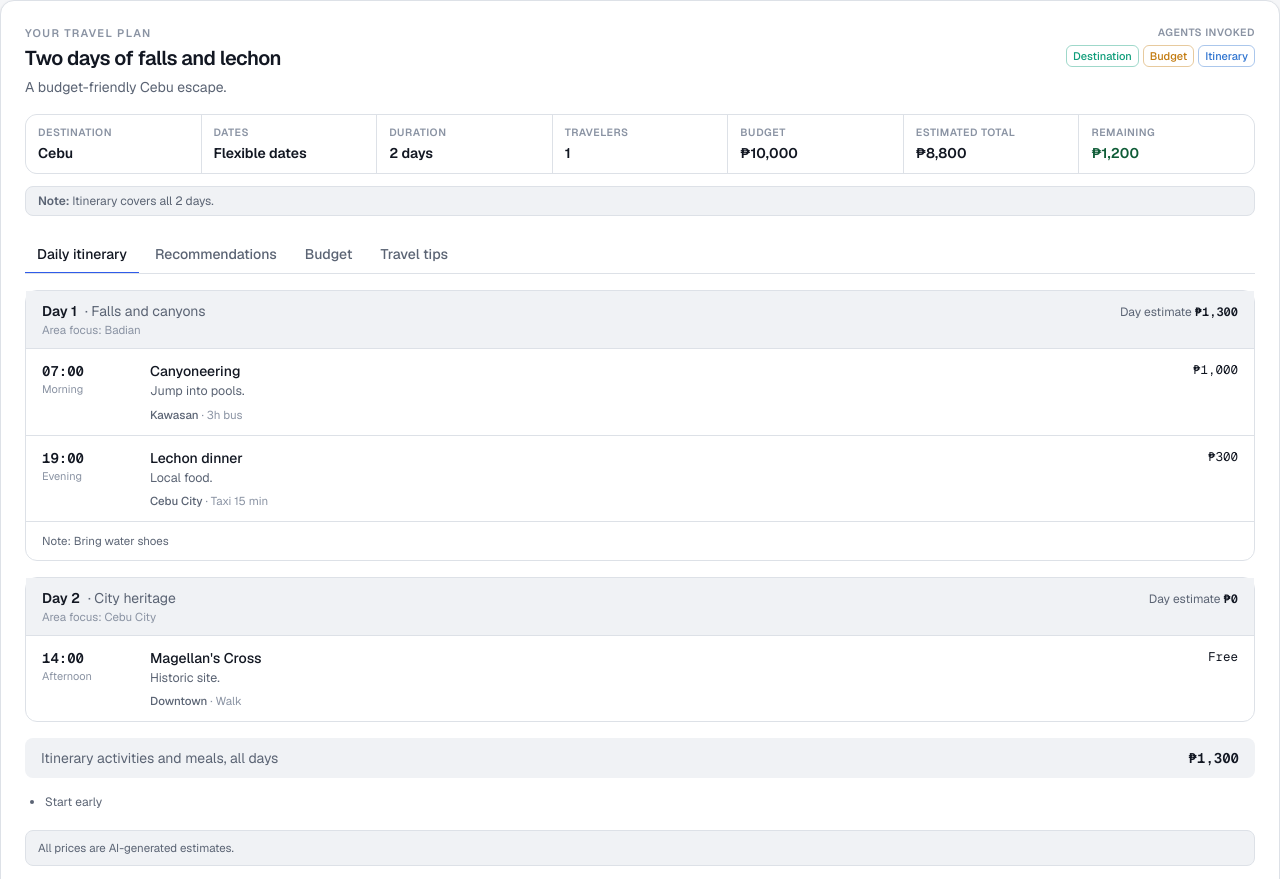
Test: PlanView › renders overview, tabs, tips, disclaimer and refinement
Later steps or results of the test are not shown.
Expected: the heading "Two days of falls and lechon" is shown, x1=25 y1=44 x2=281 y2=72
Expected: the element with test id "trip-overview" shows "Cebu", x1=38 y1=144 x2=73 y2=162
Click the tab "Recommendations". click: click(216, 255)
box: x1=143 y1=236 x2=289 y2=274
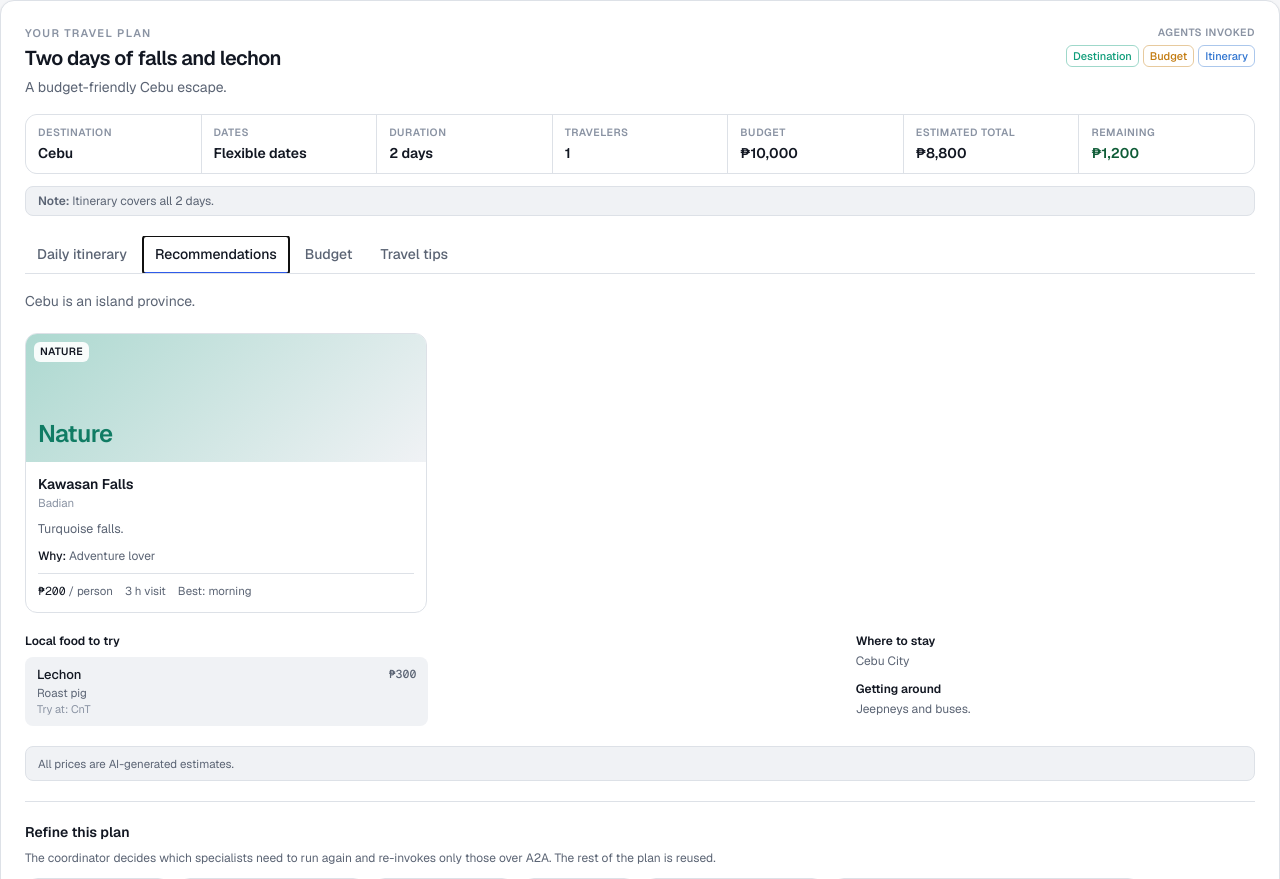
Now the heading "Kawasan Falls" is shown, box x1=38 y1=475 x2=134 y2=493
Click the tab "Travel tips". click: click(414, 255)
box: x1=368 y1=236 x2=460 y2=274
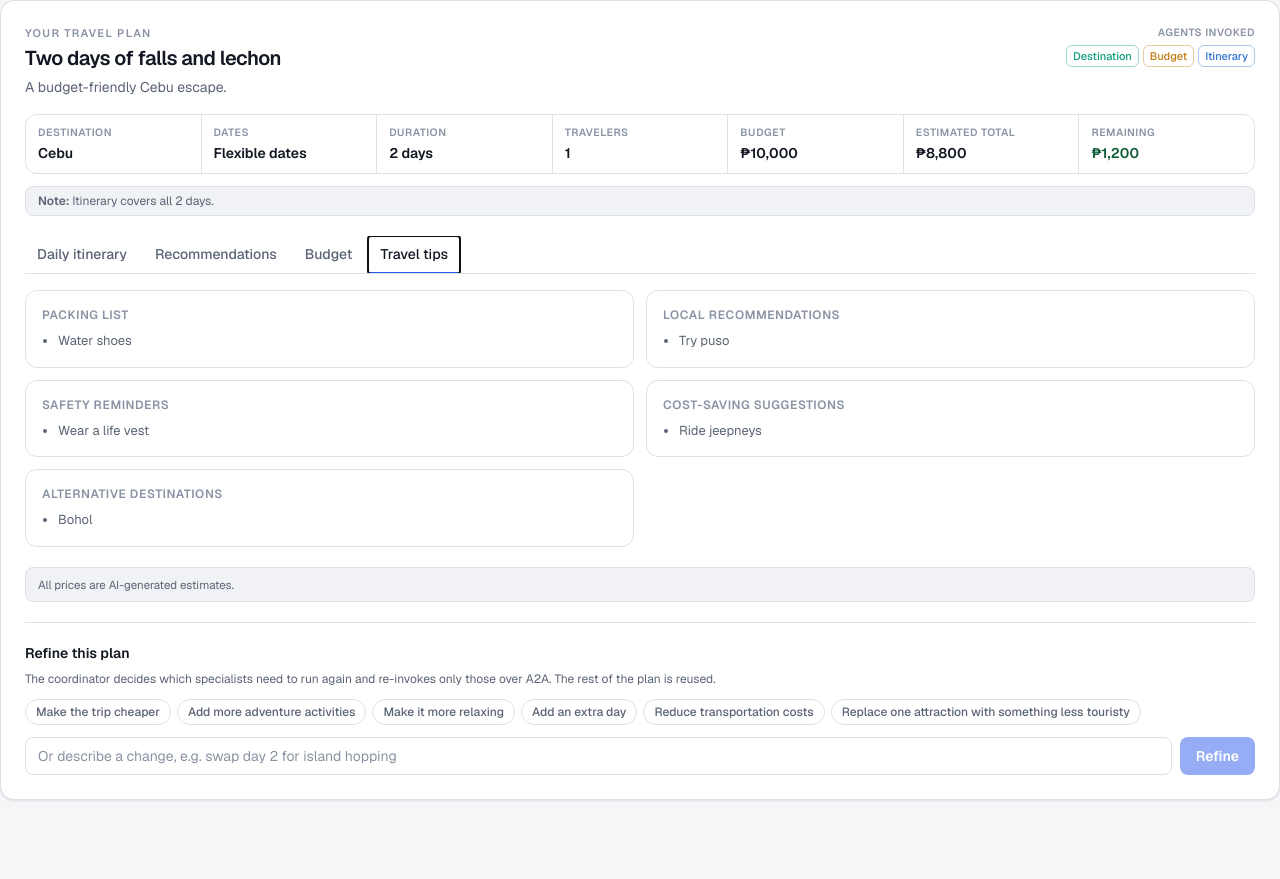
Now the list item "Water shoes" is shown, box x1=58 y1=332 x2=132 y2=349
Now the list item "Bohol" is shown, box x1=58 y1=511 x2=92 y2=528
